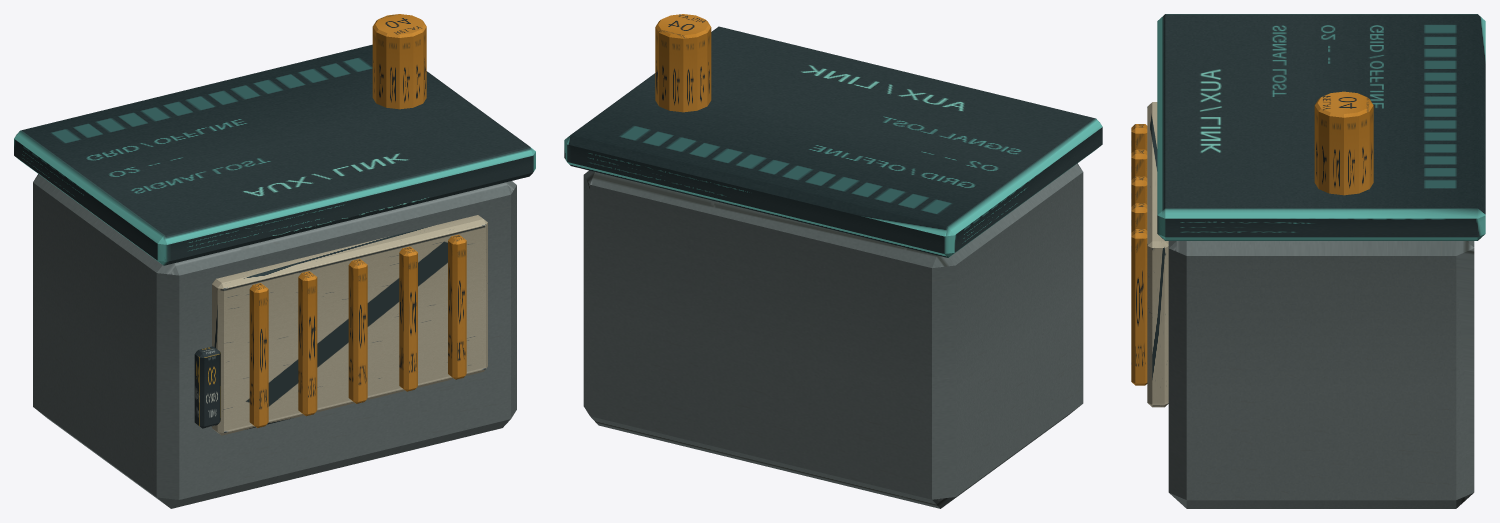
The model's file is generator_LOD1.obj.
3 renders of one model, left to right at view 1: azimuth 30°, elevation 25°; view 2: azimuth 150°, elevation 25°; view 3: azimuth 270°, elevation 25°, orthographic. The views are drawn at different scales.
Parts seen in each view (by area): view 1: L02_generator_LOD1; view 2: L02_generator_LOD1; view 3: L02_generator_LOD1.
Boxes of the visible parts, <box> form: L02_generator_LOD1: <box>14,14,535,508</box>; L02_generator_LOD1: <box>564,14,1102,508</box>; L02_generator_LOD1: <box>1131,14,1485,508</box>.
Bounding box in the file's own units: 2.1 × 1.9 × 1.56.
Materials: 1 (1 with a texture image).
